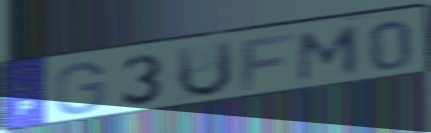0: (365, 18, 418, 72)
3: (120, 51, 165, 107)
F: (238, 31, 295, 93)
G: (53, 60, 107, 116)
M: (295, 23, 363, 85)
U: (173, 38, 234, 101)
